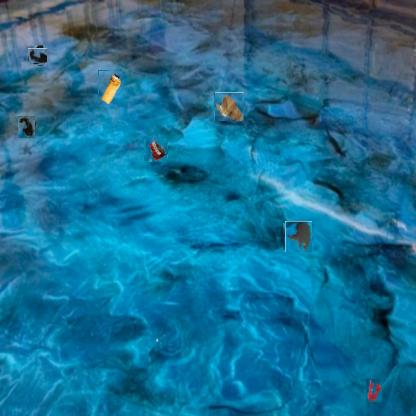dirty: (214, 92, 244, 121), (98, 70, 122, 104), (145, 139, 168, 161), (16, 117, 36, 137), (29, 47, 46, 64)
liquid: (284, 222, 313, 251), (366, 380, 382, 404)
